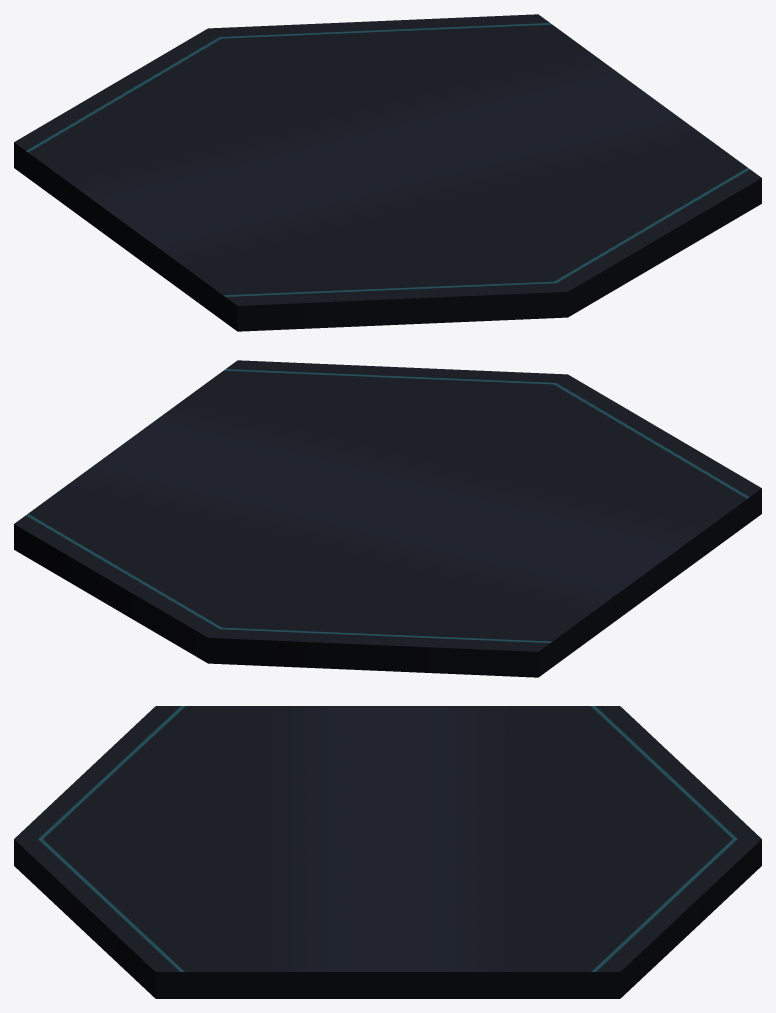
Rendered from F_02_01_03_01_bridge2.fbx.
3 views of the same model, one above another, from view 1: azimuth 30°, elevation 25°; view 2: azimuth 150°, elevation 25°; view 3: azimuth 270°, elevation 25° (orthographic). The views are drawn at different scales.
Visible parts, largest first — view 1: Box255; view 2: Box255; view 3: Box255.
Boxes of the visible parts, x1,y1,x2,y2 form: Box255: (14,14,761,331); Box255: (14,360,761,677); Box255: (14,706,761,998).
Bounding box in the file's own units: 908 × 42.59 × 1079.
1 material, 1 textured.
